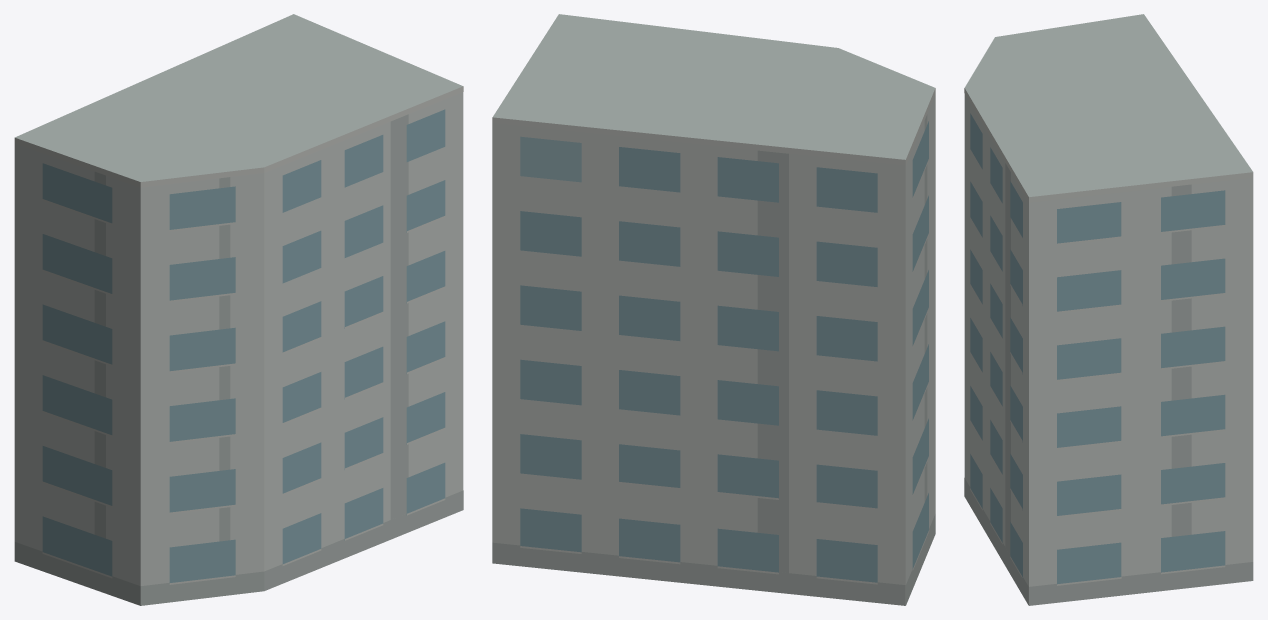
Rendered from survey-upis-32743061.glb.
3 views of the same model, side by side, from view 1: azimuth 30°, elevation 25°; view 2: azimuth 150°, elevation 25°; view 3: azimuth 270°, elevation 25° (orthographic). The views are drawn at different scales.
Parts seen in each view (by area): view 1: survey-upis-32743061.tmp; view 2: survey-upis-32743061.tmp; view 3: survey-upis-32743061.tmp.
Boxes of the visible parts, x1,y1,x2,y2 form: survey-upis-32743061.tmp: (14, 14, 463, 605); survey-upis-32743061.tmp: (492, 14, 935, 605); survey-upis-32743061.tmp: (964, 14, 1253, 605).
Bounding box in the file's own units: 17.6 × 18.3 × 11.73.
